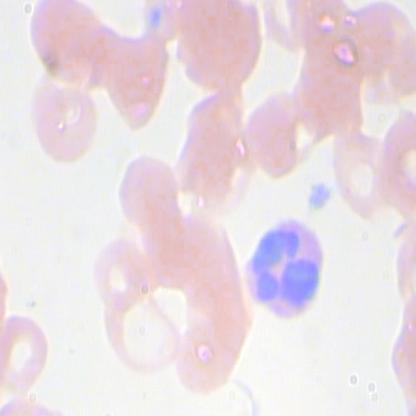Platelets: (304, 175, 340, 219)
RBC: (98, 278, 184, 383), (171, 294, 257, 398), (28, 0, 126, 91), (178, 0, 268, 96), (26, 64, 104, 170), (105, 31, 178, 141), (328, 120, 396, 218), (245, 86, 312, 184), (178, 206, 245, 304), (176, 107, 243, 204), (107, 147, 184, 231), (339, 0, 408, 91), (375, 103, 415, 236), (89, 232, 147, 316), (1, 308, 56, 392), (261, 0, 331, 63), (388, 210, 415, 313)
WBC: (236, 217, 328, 322)
